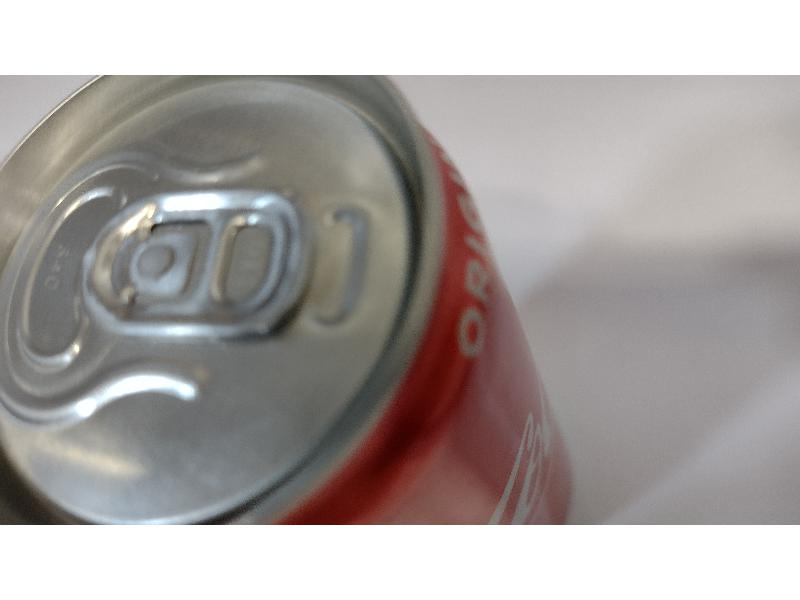can: (1, 77, 577, 522)
